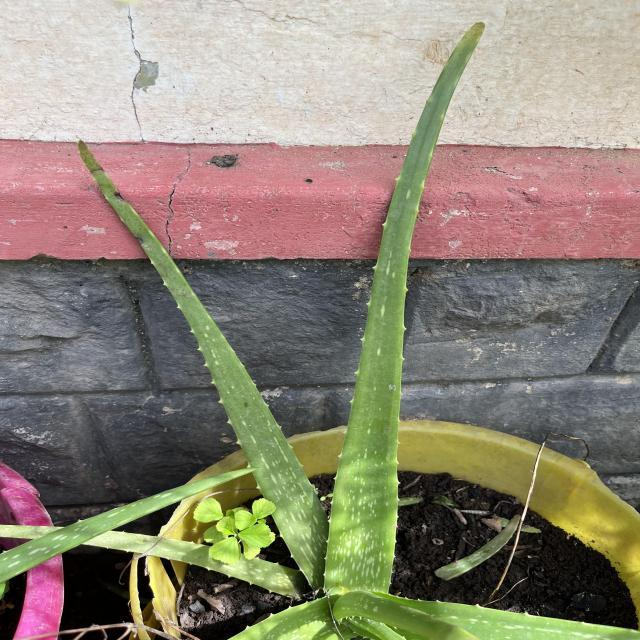Aloe vera: (320, 15, 492, 608)
